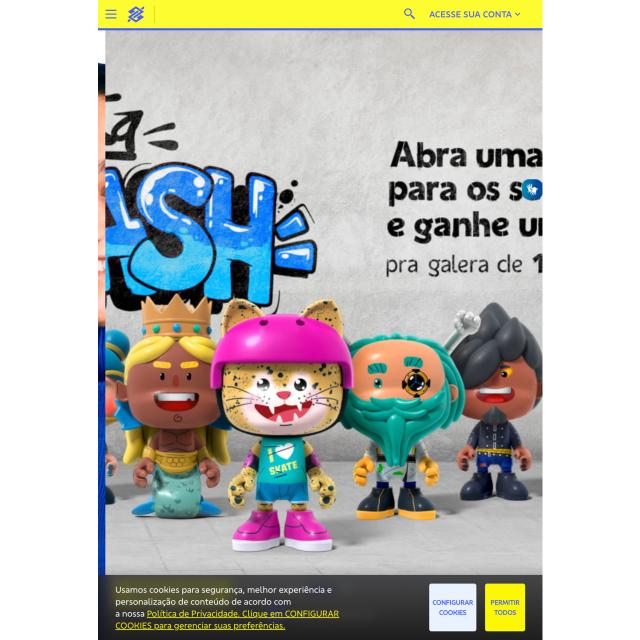logo: (126, 3, 147, 25)
navigation: (104, 7, 118, 22)
